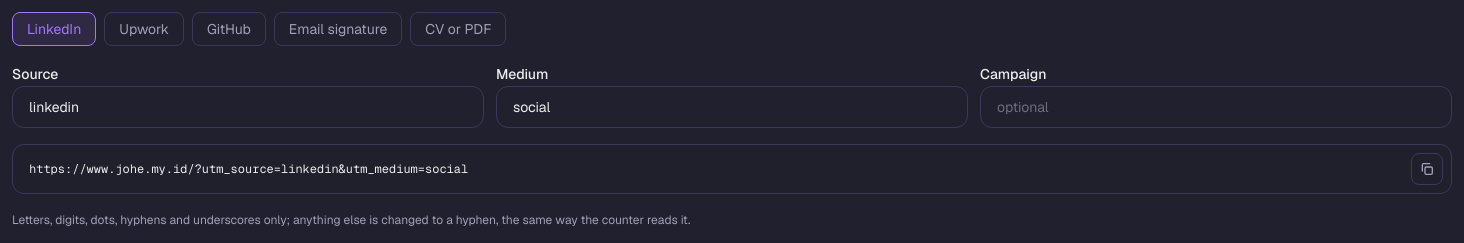
Test: LinkBuilder › changes source and medium with a preset
The image size is (1464, 243).
Click the button "Email signature".
click(338, 29)  # box [274,12,402,46]
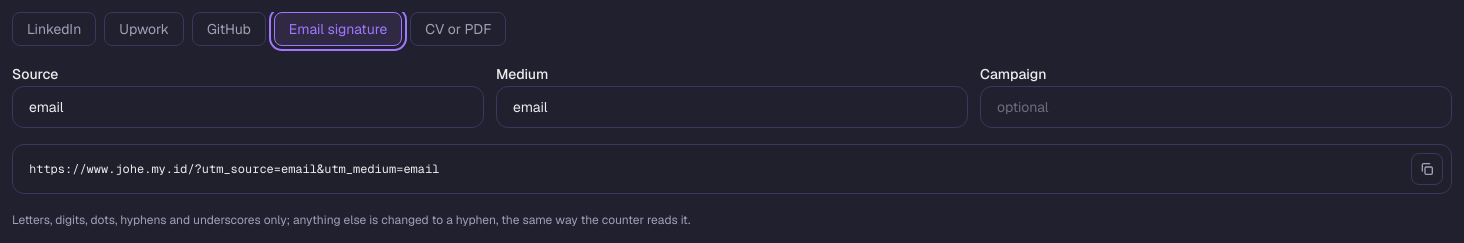
Expected: the text named "Tracked link" reads "https://www.johe.my.id/?utm_source=email&utm_medium=email", [29,161,439,177]
